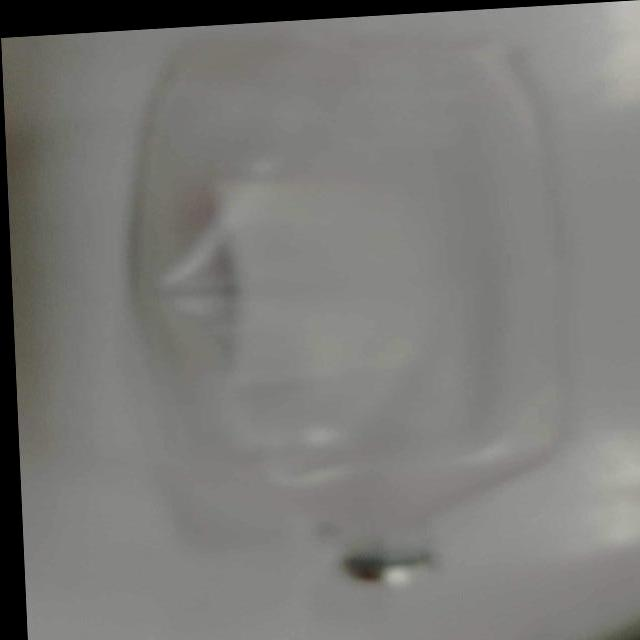General: (4, 2, 638, 636)
